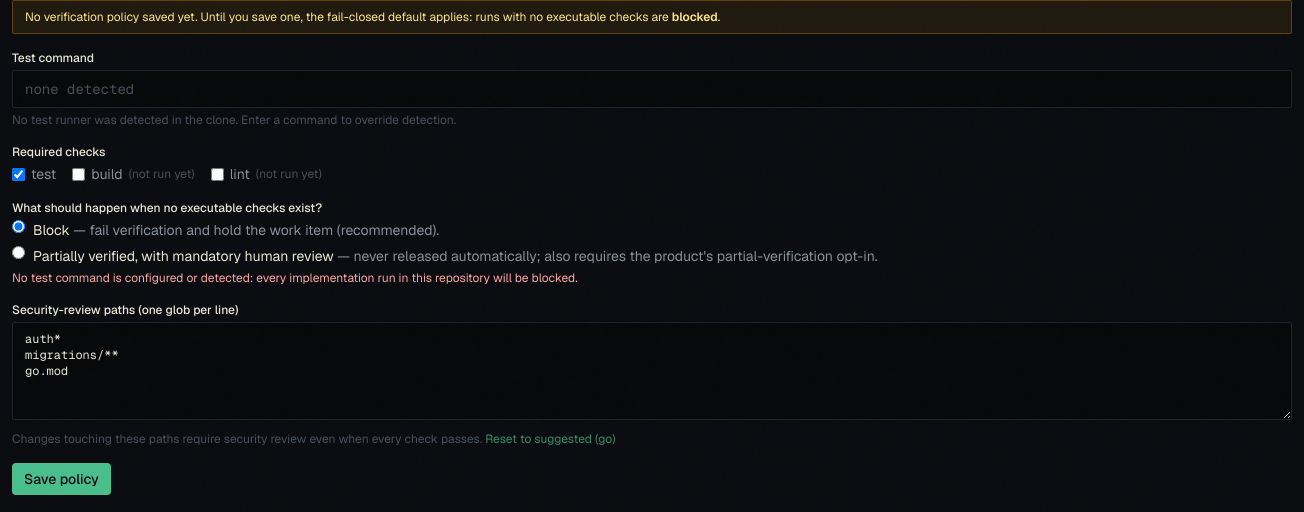
Test: VerificationPolicyForm › warns that every run will block when no command exists and block is chosen
expect the text with test id "vp-will-block" is shown: met, box x1=12 y1=270 x2=578 y2=286
Step 1. Click the radio button showing "partial_with_human_review" → click(18, 252), box x1=12 y1=246 x2=25 y2=259
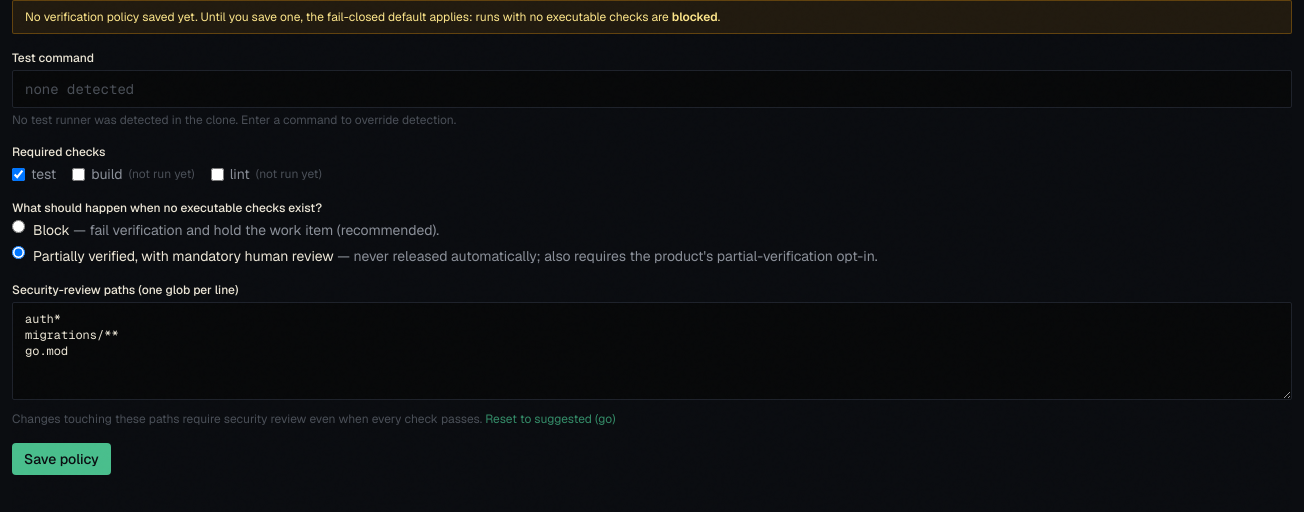
expect the text with test id "vp-will-block" is gone: met
